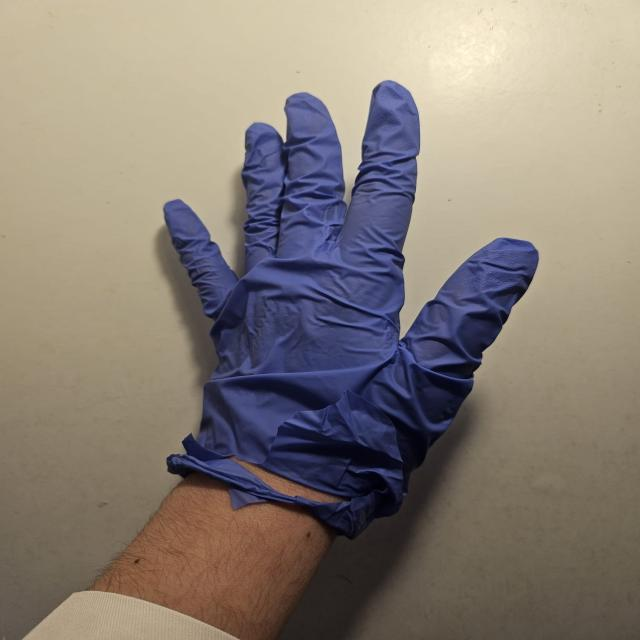gloves_damaged: (162, 78, 540, 541)
